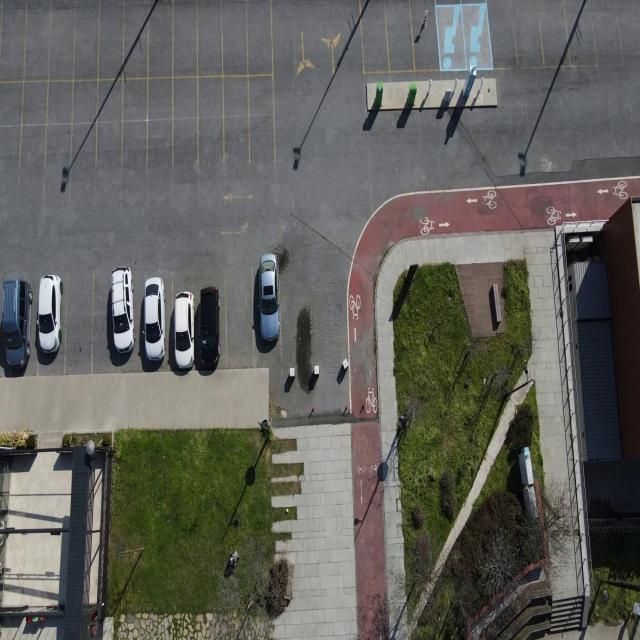p3rson: (229, 551, 240, 568)
